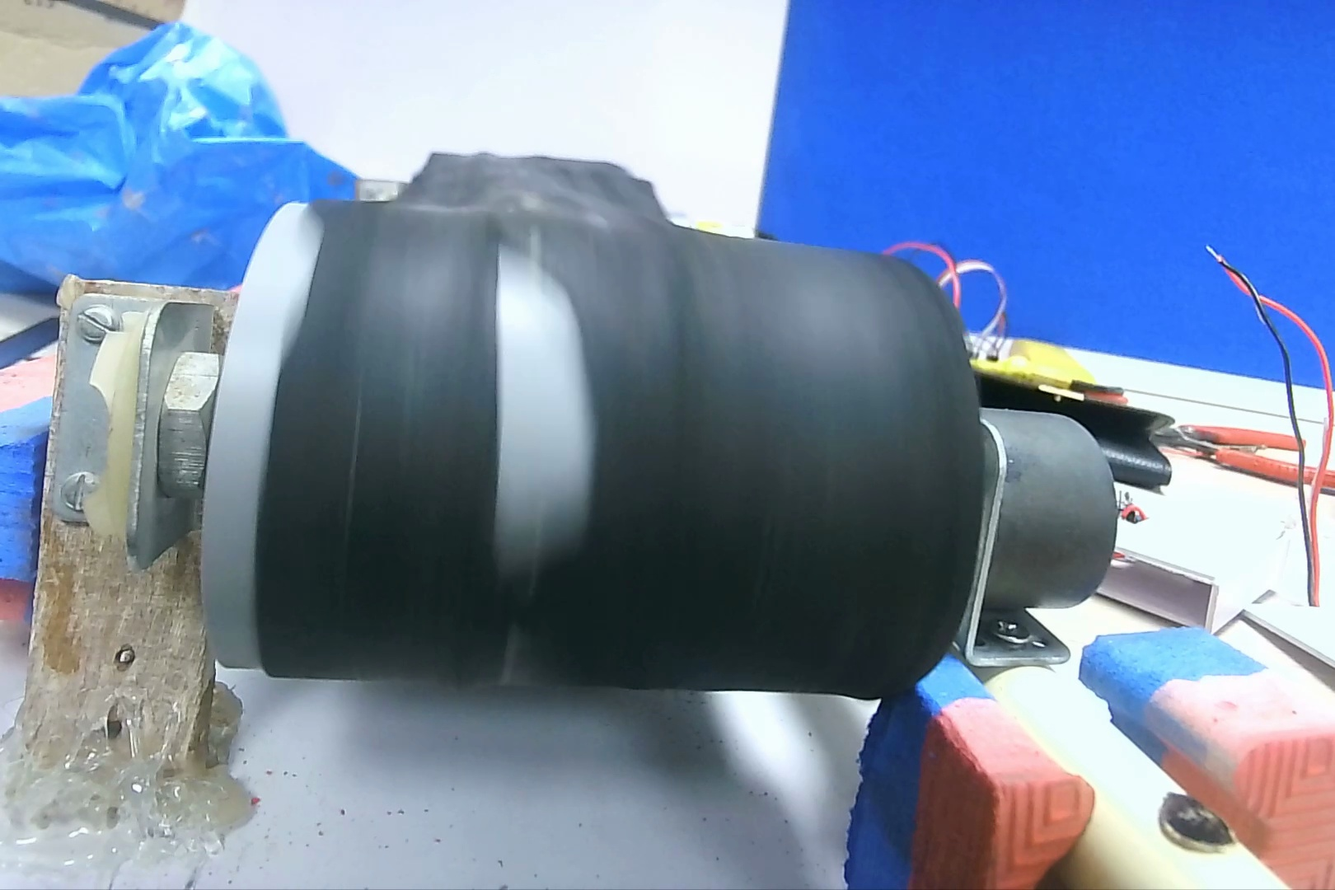hole: (483, 218, 595, 599), (939, 256, 993, 305), (834, 696, 880, 739)
